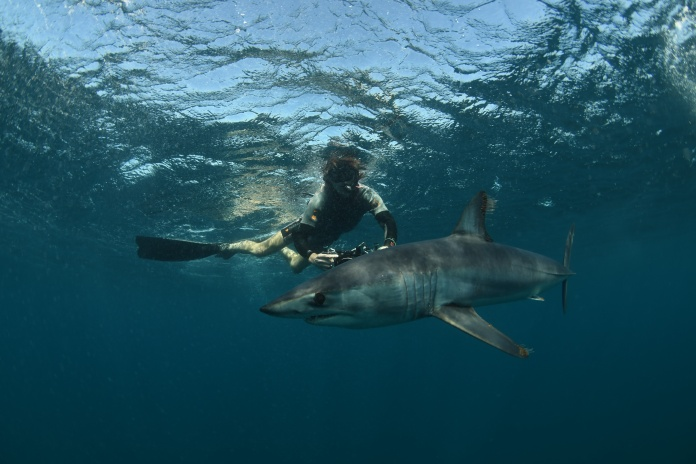Mako: (250, 181, 598, 362)
